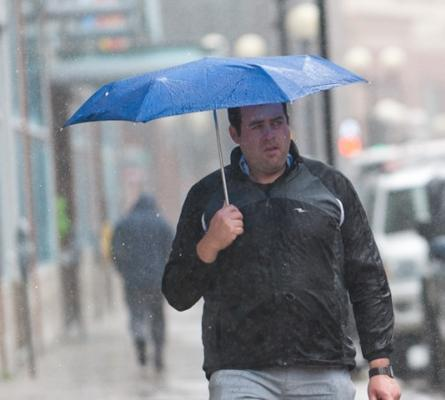person: (162, 103, 402, 400)
